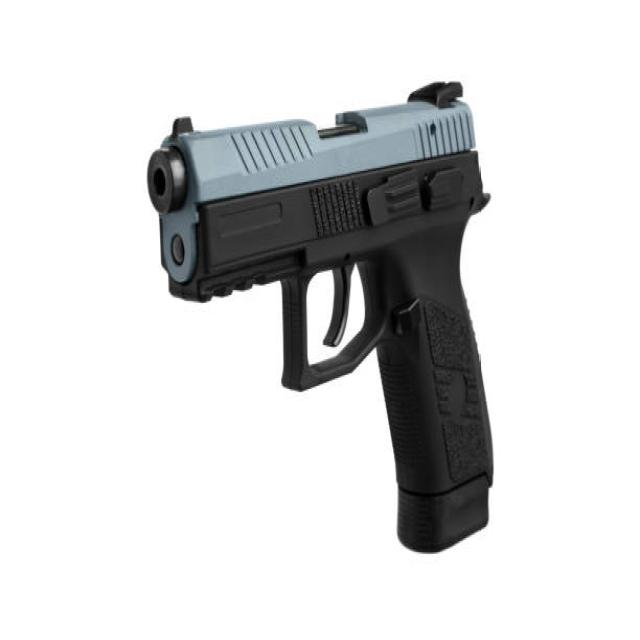pistol: (138, 64, 502, 559)
